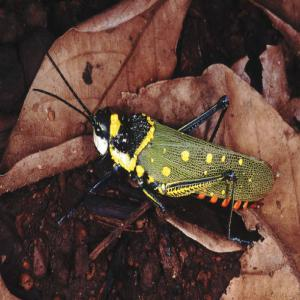locust: (60, 83, 276, 245)
